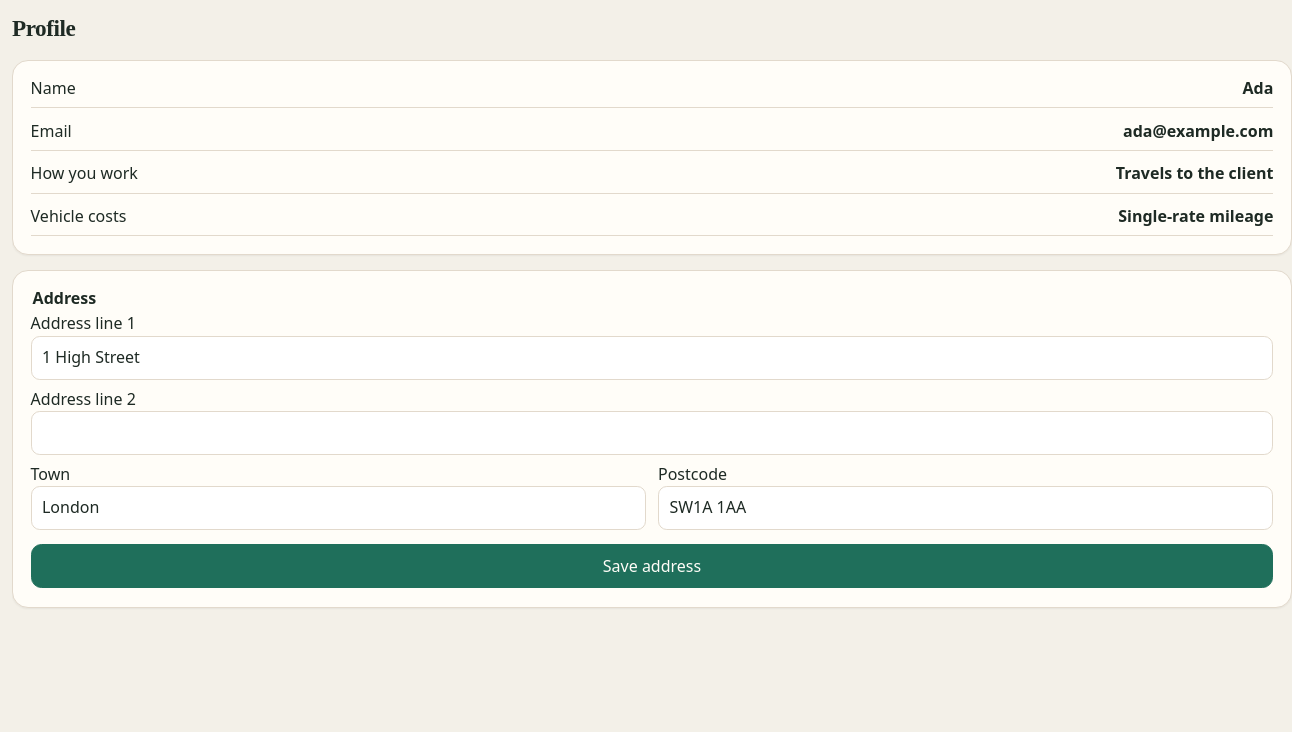
records › saves a business address from the profile
Check: the text "Ada" is shown, box [1243,77,1273,100]
Replace the text in the field labelled "Address line 1" with "5 Spa Lane" at point(652, 358), box [31,336,1273,380]
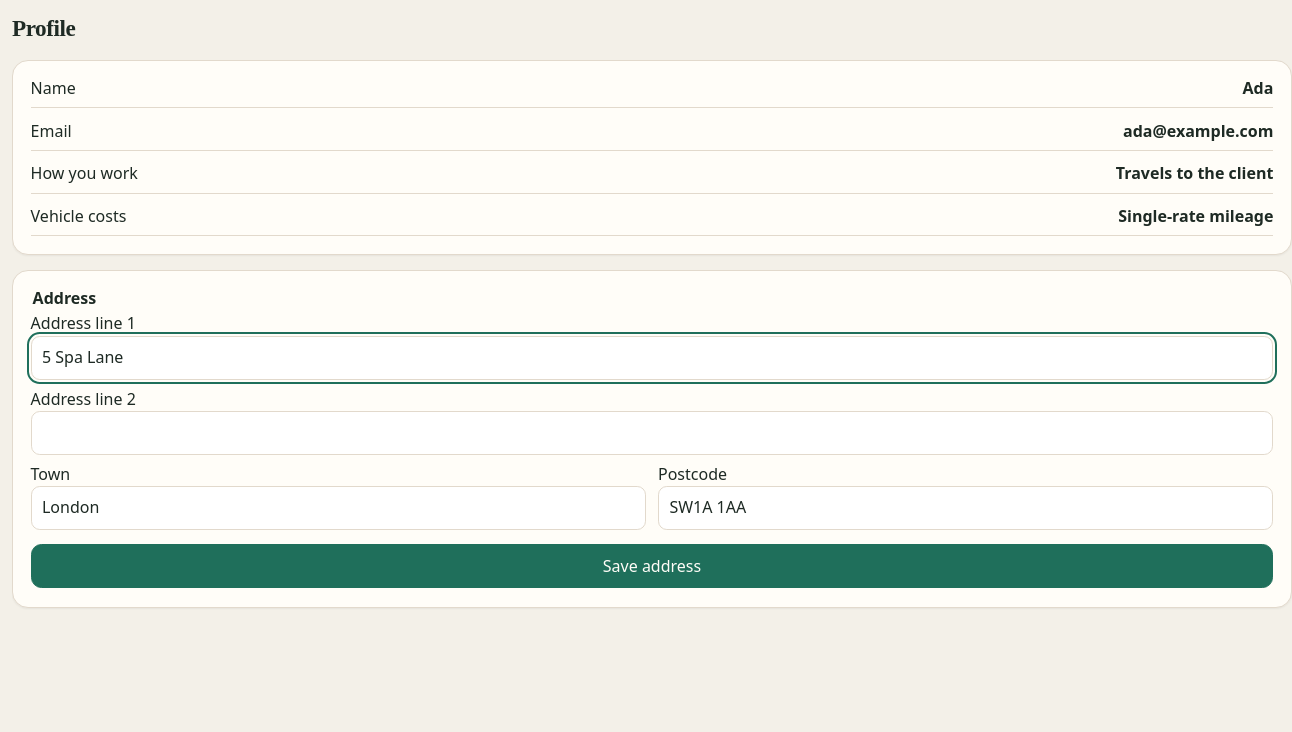
Click the button "Save address".
click(652, 566)  # box [31,544,1273,588]
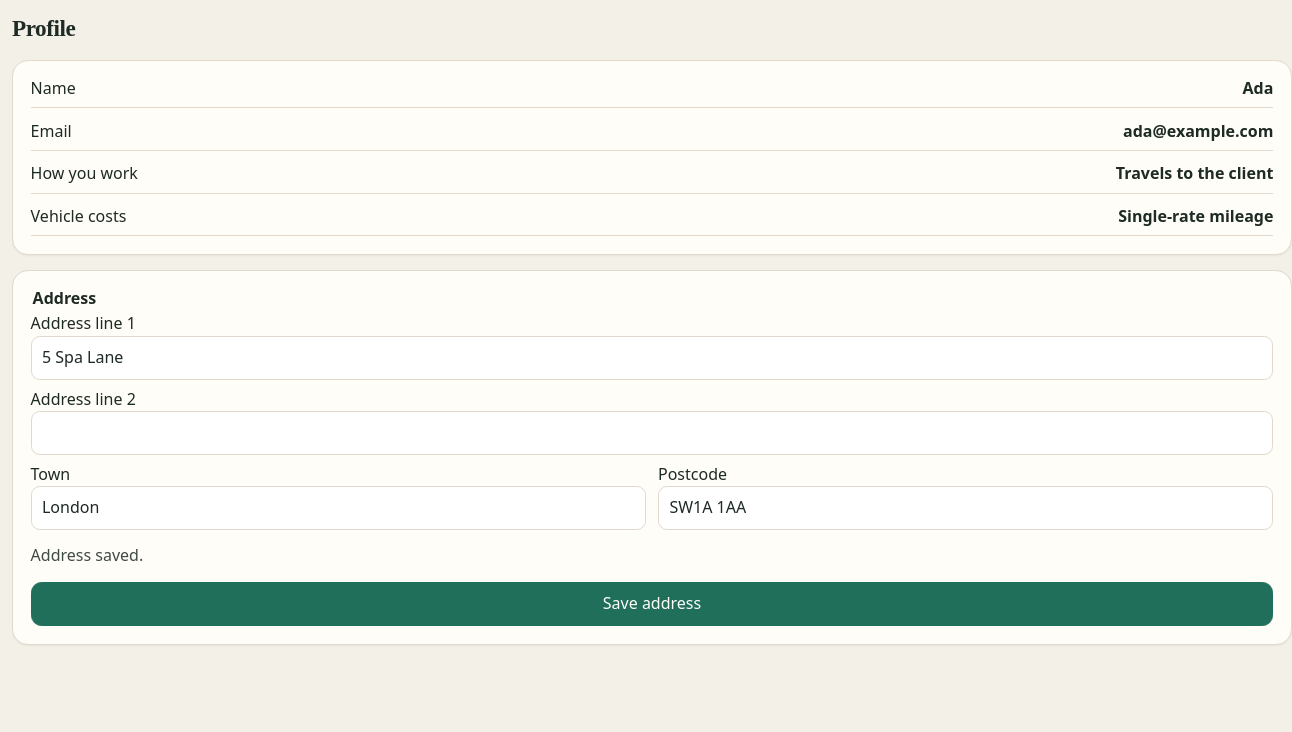
Check: the text "Address saved." is shown, box [31,544,143,566]
